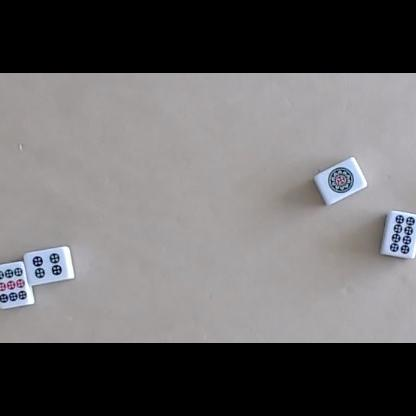1p: (327, 166, 355, 194)
4p: (32, 252, 63, 279)
8p: (389, 214, 415, 254)
9p: (0, 267, 27, 304)
